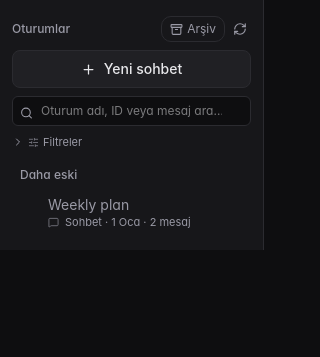
it: SessionsSidebar filter chips › keeps the chip strip folded until the user opens it
The image size is (320, 357).
Click the button with test id "session-filters-toggle". click: x=47, y=142
box: 12,134 -> 82,150
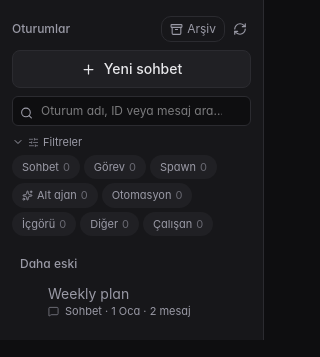
Result: the element with test id "session-kind-filters" is shown at 12,154 -> 217,236
